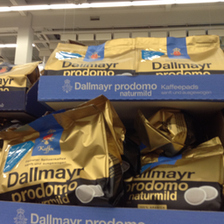coffee: (1, 99, 128, 205), (122, 137, 224, 210), (137, 34, 224, 76), (42, 38, 137, 75)
